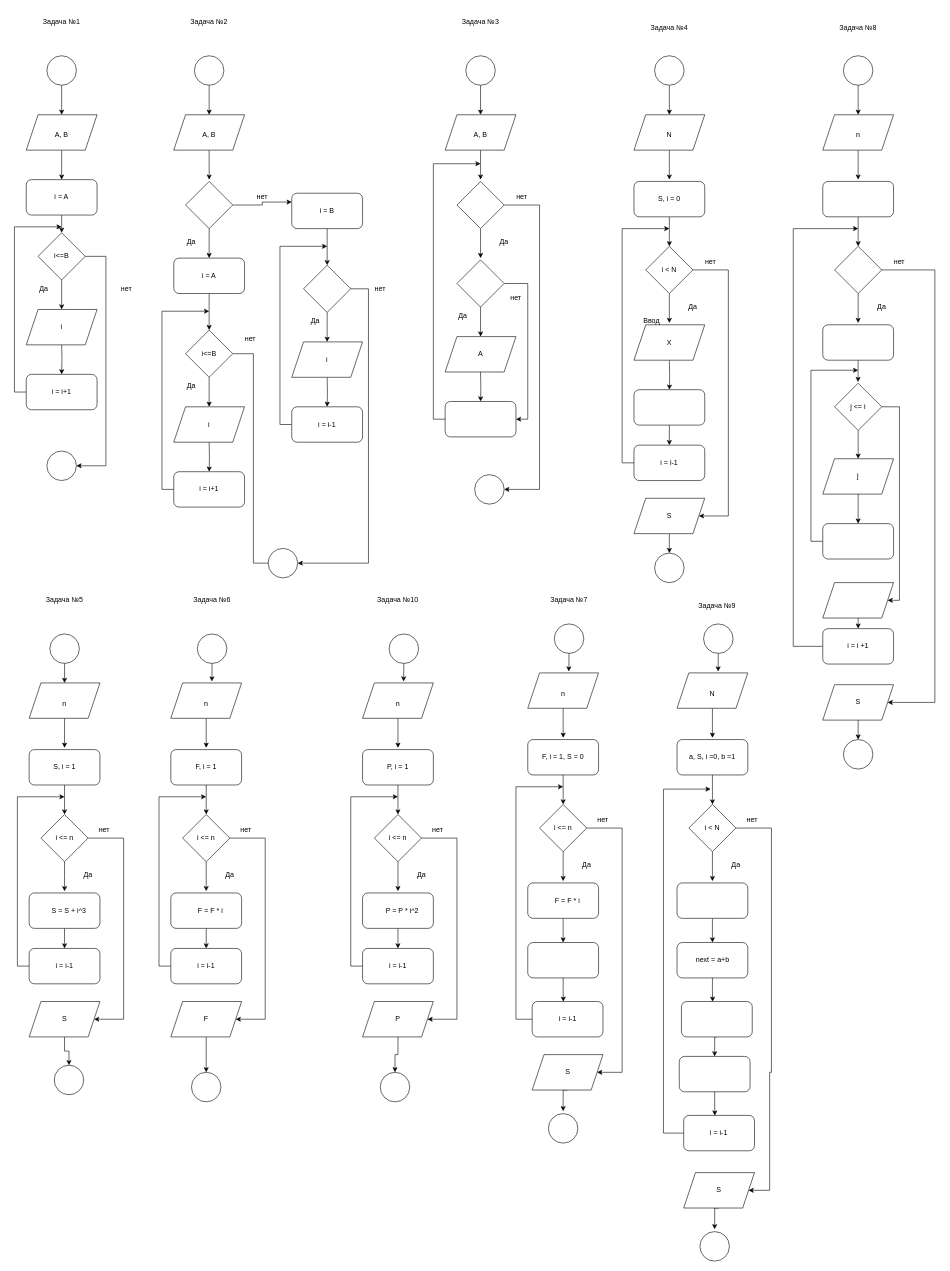
This 950x1271 diagram has some shape labels left out. Here are the shapes that lost their labels. From the top down, the box of each, then its label:
(185, 181, 233, 229): A<B
(456, 181, 504, 229): A>B
(822, 181, 894, 217): i = 1
(303, 265, 351, 312): i >=A
(456, 259, 504, 307): A%2!=0
(834, 246, 882, 294): i <=n
(822, 324, 894, 360): j = 1
(445, 401, 516, 437): A = A- 1
(633, 389, 705, 425): S = S + X
(822, 523, 894, 559): j = j +1
(822, 582, 894, 618): символ переноса строки
(676, 882, 748, 918): S = S + a
(527, 942, 599, 978): S = S + F
(681, 1001, 752, 1037): a = b
(679, 1056, 750, 1092): b = next
